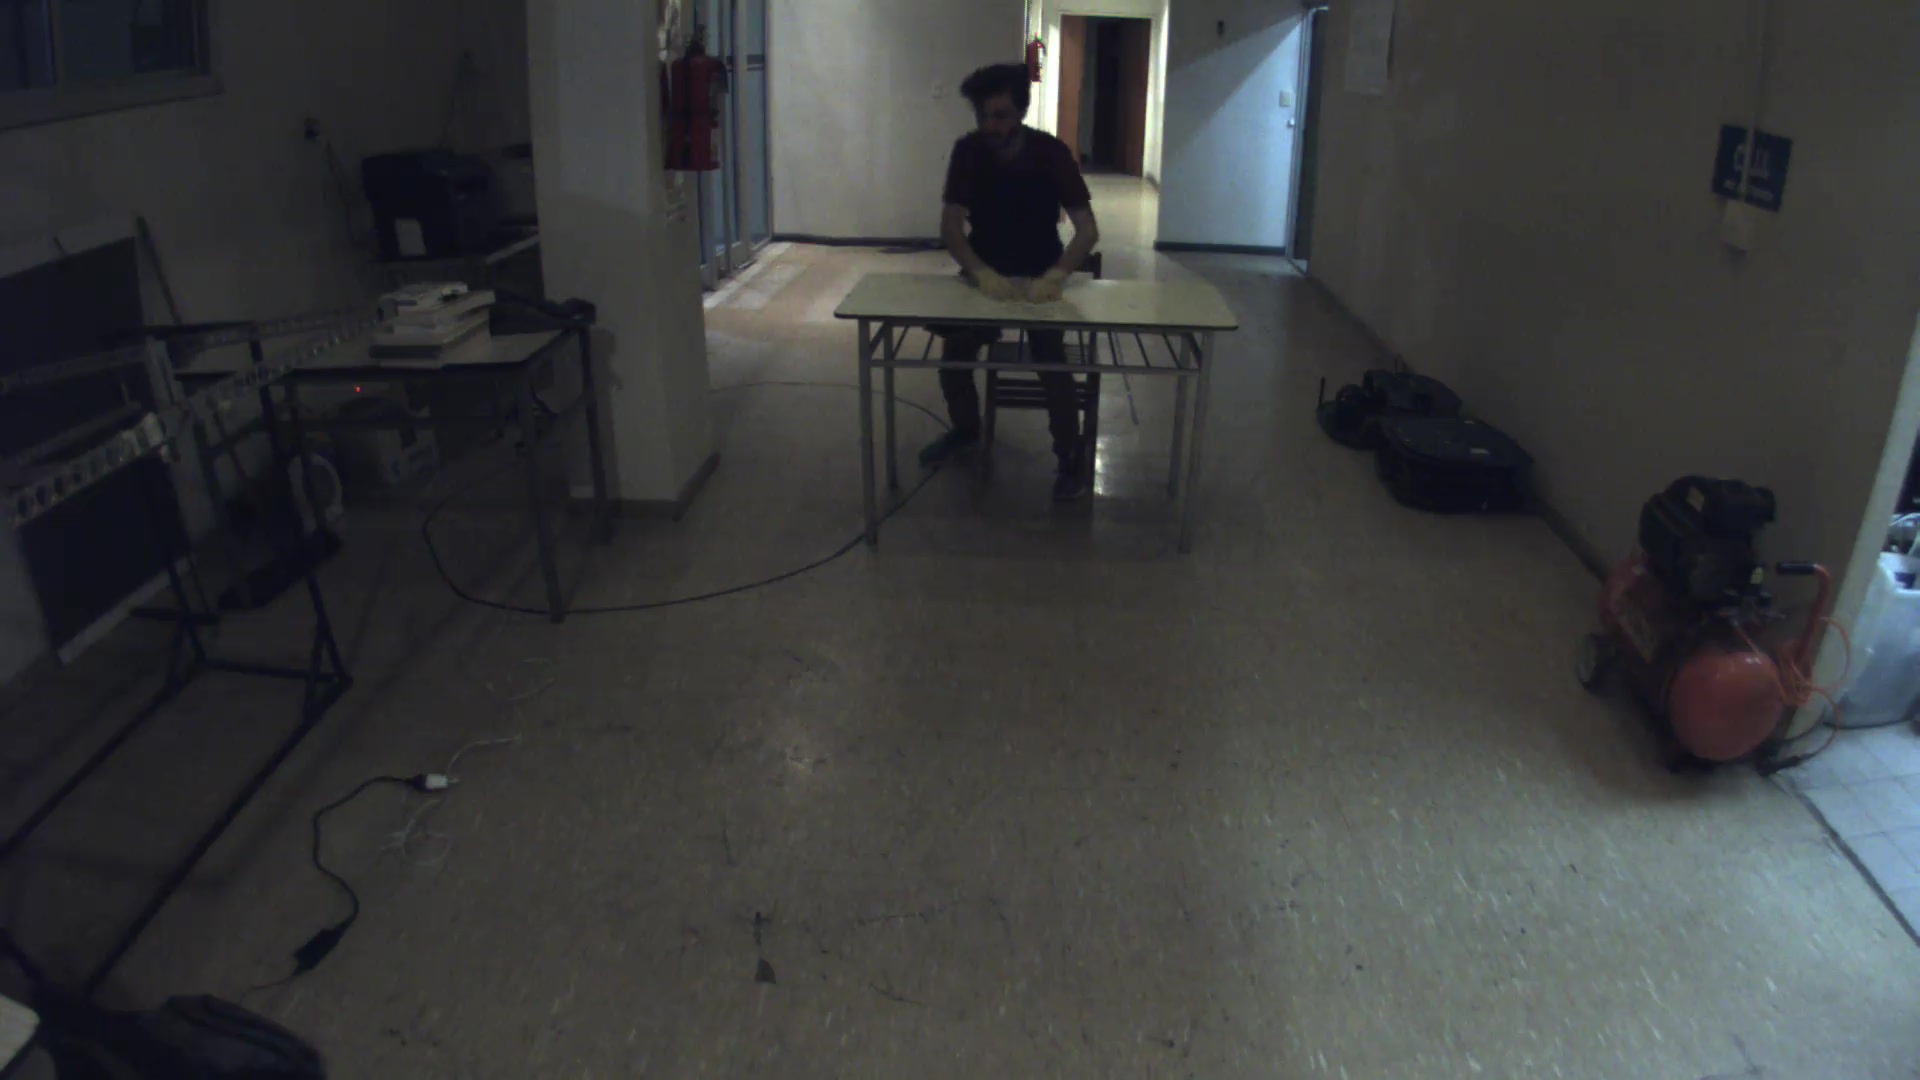hand: (1007, 262, 1063, 316), (963, 265, 1015, 305)
